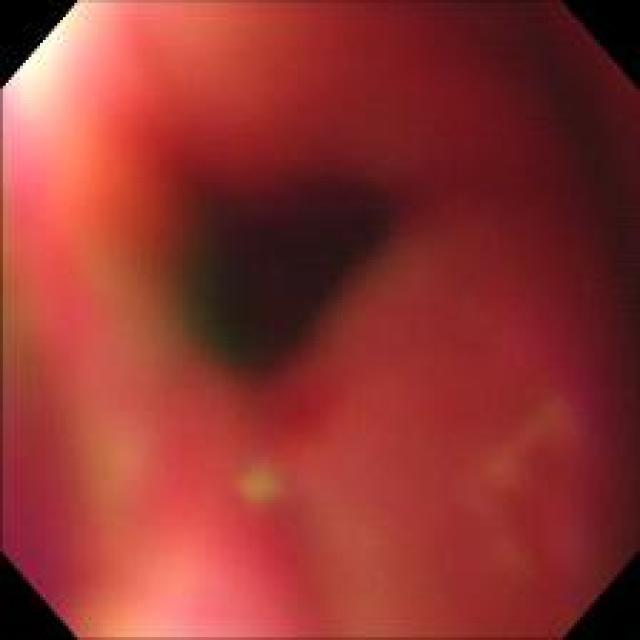blur: (4, 4, 635, 635)
color misalignment: (4, 5, 635, 636), (126, 544, 288, 634), (482, 408, 571, 558), (236, 458, 288, 501)
contrast: (179, 162, 416, 371)
saturation: (19, 15, 105, 112)
